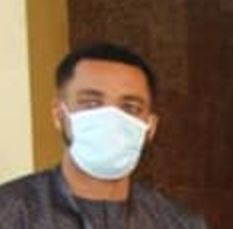with_facemask: (69, 98, 149, 177)
